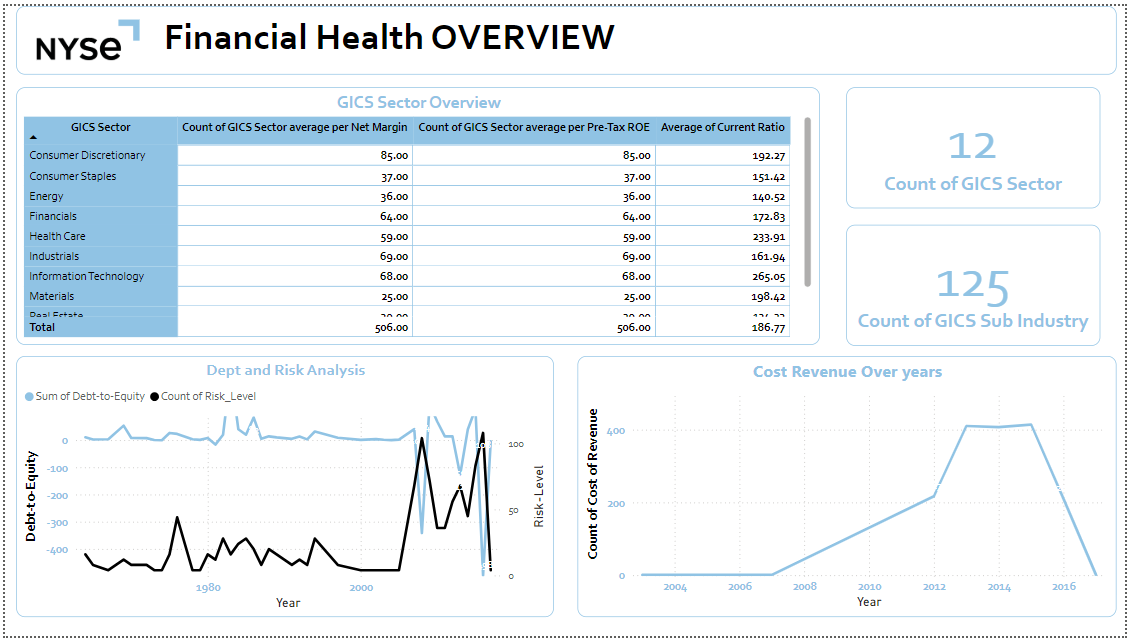

The dashboard page shown, as its layout file describes it:
{"tool":"powerbi","page":{"name":"Financial Health Overview","canvas":[1280,720],"ordinal":0},"visuals":[{"type":"card","fields":{"Values":["Count(fundamentals_with_risk_scores.Altman_Z)"]},"box":[962,93,290,138.3],"z":0},{"type":"card","fields":{"Values":["Avg(fundamentals_with_risk_scores.Net Borrowings)"]},"box":[962,249.7,290,138.3],"z":1000},{"type":"lineChart","title":"Dept and Risk Analysis","fields":{"Category":["fundamentals_with_risk_scores.Date first added.Variation.Date Hierarchy.Year"],"Y":["Sum(fundamentals_with_risk_scores.Debt-to-Equity)"],"Y2":["Sum(fundamentals_with_risk_scores.Risk_Score)"]},"box":[12.9,400,614.3,298.6],"z":2000},{"type":"lineChart","title":"Cost Revenue Over years","fields":{"Category":["cleaned_fundamentals.Period Ending.Variation.Date Hierarchy.Year"],"Y":["Count(cleaned_fundamentals.Cost of Revenue)"]},"box":[654.3,400,615.7,298.6],"z":3000},{"type":"textbox","box":[12.5,0,1257.5,78.8],"z":4000,"group":"g1"},{"type":"pivotTable","title":"GICS Sector Overview","fields":{"Rows":["cleaned_securities.GICS Sector"],"Values":["Count(cleaned_fundamentals.Total Revenue)","Count(fundamentals_with_risk_scores.Cost of Revenue)","Avg(fundamentals_with_risk_scores.Current Ratio)"]},"box":[12.9,92.9,641.4,294.3],"z":4000},{"type":"group","id":"g1","title":"Group 1","box":[12.5,0,1257.5,78.8],"z":5000},{"type":"card","fields":{"Values":["fundamentals_with_risk_scores.High Risk Count"]},"box":[662.9,94.4,290,138.3],"z":6000},{"type":"card","fields":{"Values":["Avg(fundamentals_with_risk_scores.Net Margin)"]},"box":[662.9,251.1,290,138.3],"z":7000},{"type":"image","box":[30.6,4.9,127.2,68.5],"z":8000,"group":"g1"}]}

Visuals, with their boxes in screenshot pixels (x1, y1, x2, y2), scaled from the page's 1280x720 canvas onto the 1130x643 screenshot:
card - Count(fundamentals_with_risk_scores.Altman_Z): 849,83,1105,207
card - Avg(fundamentals_with_risk_scores.Net Borrowings): 849,223,1105,347
"Dept and Risk Analysis" lineChart: 11,357,554,624
"Cost Revenue Over years" lineChart: 578,357,1121,624
textbox: 11,0,1121,70
"GICS Sector Overview" pivotTable: 11,83,578,346
"Group 1" group: 11,0,1121,70
card - fundamentals_with_risk_scores.High Risk Count: 585,84,841,208
card - Avg(fundamentals_with_risk_scores.Net Margin): 585,224,841,348
image: 27,4,139,66
